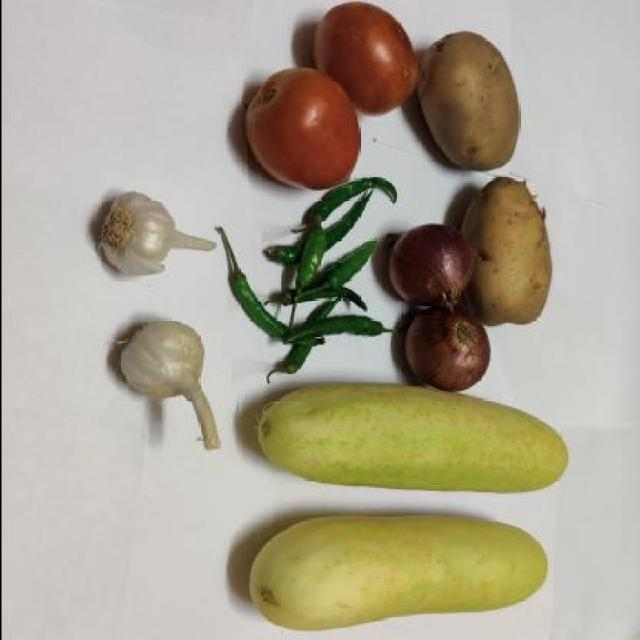Garlic: (105, 302, 223, 462), (89, 184, 228, 274)
Green Chili: (228, 191, 374, 372)
Onion: (397, 302, 501, 384), (389, 217, 471, 306)
Potato: (419, 10, 523, 178), (457, 172, 557, 323)
Tomato: (232, 62, 365, 200), (315, 0, 423, 106)
cucumber: (226, 368, 577, 508), (209, 511, 551, 640)
